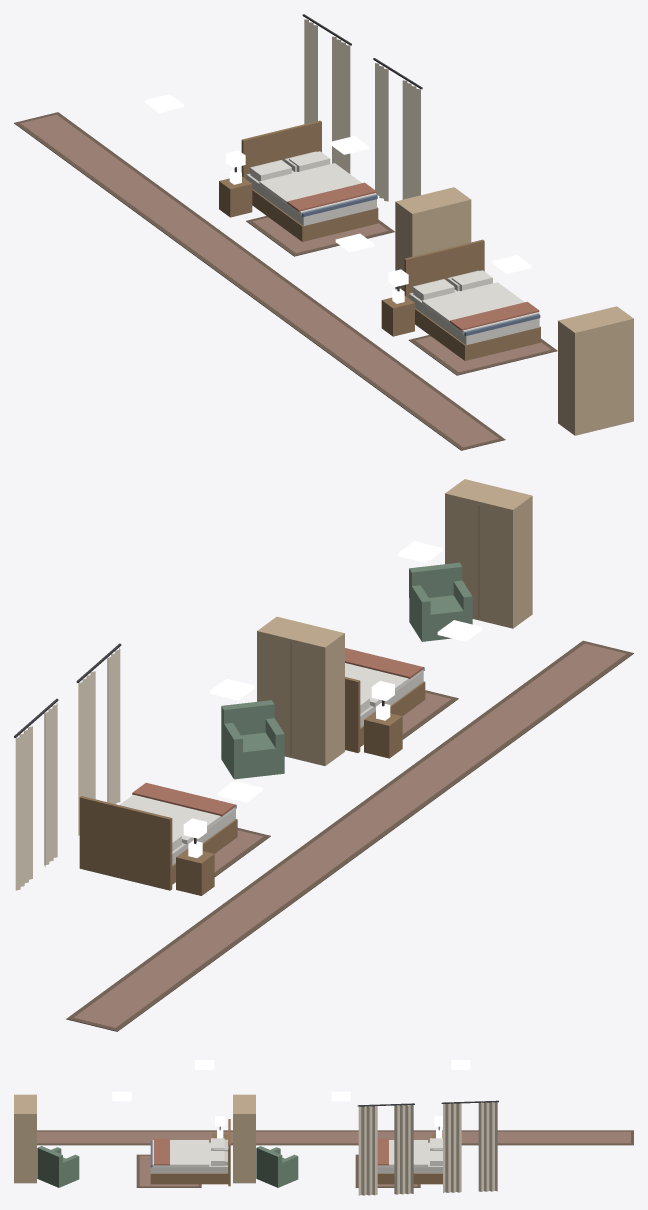
The model's file is fine-s3.glb.
3 renders of one model, top to bottom at view 1: azimuth 30°, elevation 25°; view 2: azimuth 150°, elevation 25°; view 3: azimuth 270°, elevation 25°, orthographic. The views are drawn at different scales.
Parts seen in each view (by area): view 1: soft-s3, dresser.005, bed-frame.004, bed-frame.005, dresser.004, nightstand.005, nightstand.004; view 2: soft-s3, dresser.004, dresser.005, bed-frame.004, lounge-chair.004, lounge-chair.005, bed-frame.005, nightstand.004, nightstand.005; view 3: soft-s3, dresser.004, dresser.005, bed-frame.005, lounge-chair.004, lounge-chair.005, bed-frame.004, ceiling-lamp.013, ceiling-lamp.012.
Boxes of the visible parts, bbox=[...] form: soft-s3: bbox=[14, 14, 557, 450]; dresser.005: bbox=[558, 306, 633, 435]; bed-frame.004: bbox=[241, 120, 378, 241]; bed-frame.005: bbox=[404, 239, 540, 360]; dresser.004: bbox=[395, 187, 471, 290]; nightstand.005: bbox=[381, 288, 414, 336]; nightstand.004: bbox=[219, 169, 252, 217]; soft-s3: bbox=[14, 640, 633, 1031]; dresser.004: bbox=[257, 616, 344, 765]; dresser.005: bbox=[445, 479, 532, 628]; bed-frame.004: bbox=[79, 796, 237, 890]; lounge-chair.004: bbox=[221, 700, 284, 779]; lounge-chair.005: bbox=[409, 562, 472, 641]; bed-frame.005: bbox=[345, 667, 425, 752]; nightstand.004: bbox=[176, 840, 214, 895]; nightstand.005: bbox=[364, 703, 402, 758]; soft-s3: bbox=[37, 1100, 633, 1195]; dresser.004: bbox=[233, 1094, 255, 1183]; dresser.005: bbox=[14, 1094, 36, 1183]; bed-frame.005: bbox=[150, 1119, 230, 1186]; lounge-chair.004: bbox=[256, 1146, 298, 1187]; lounge-chair.005: bbox=[37, 1146, 79, 1187]; bed-frame.004: bbox=[377, 1142, 442, 1184]; ceiling-lamp.013: bbox=[112, 1091, 131, 1101]; ceiling-lamp.012: bbox=[331, 1091, 350, 1101].
Size of the model in its own units: 4.14 by 2.66 by 16.23.
